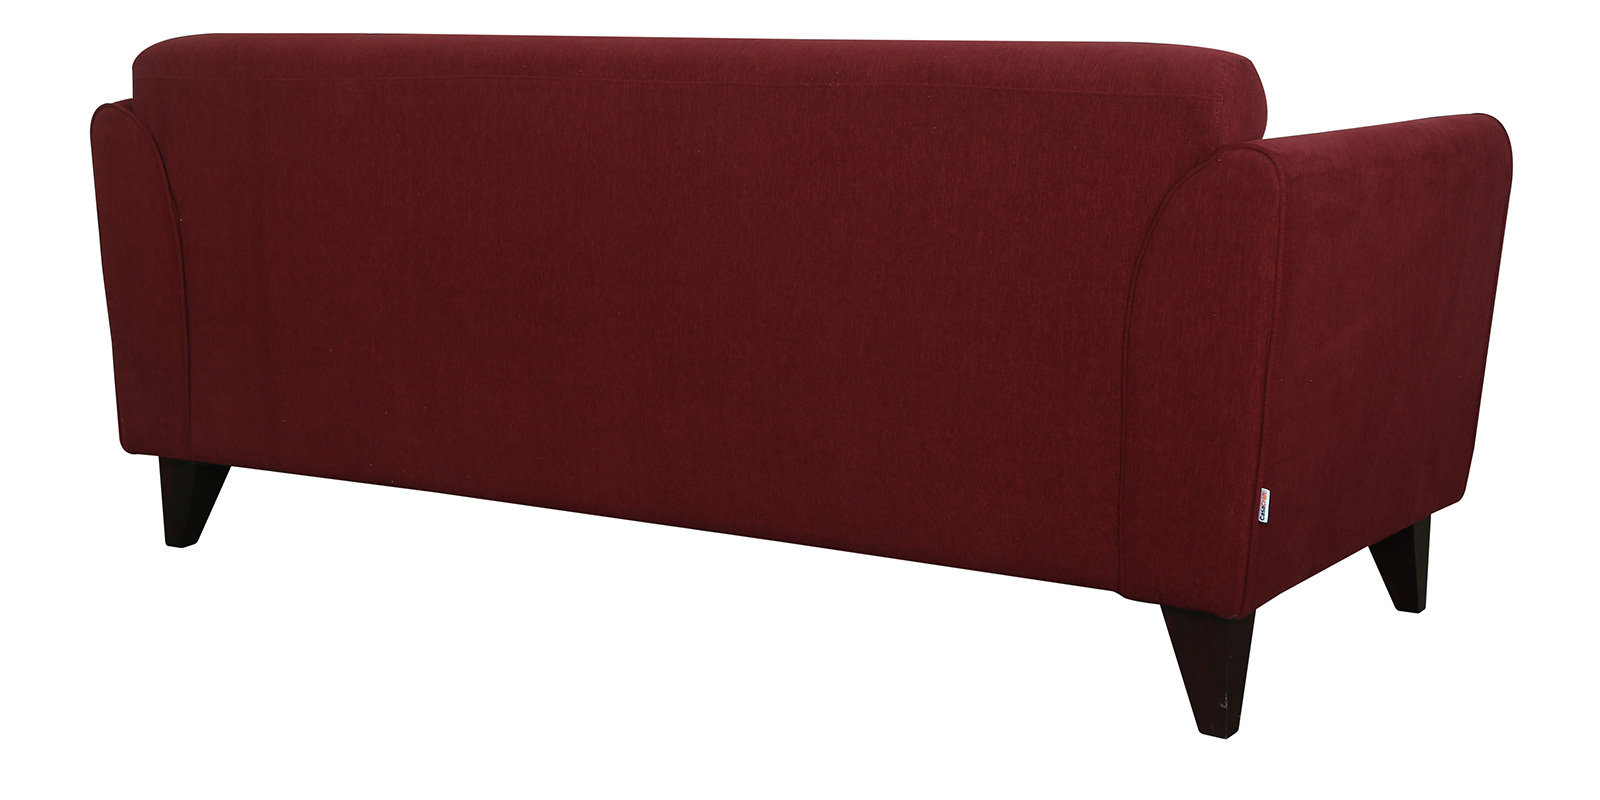Belem Three Seater Sofa in Garnet Red Color by CasaCraft: (80, 32, 1521, 648)
